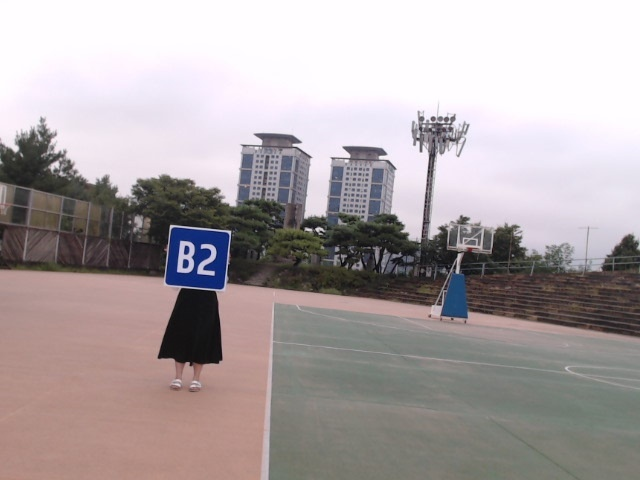delivery_b2: (164, 225, 231, 291)
